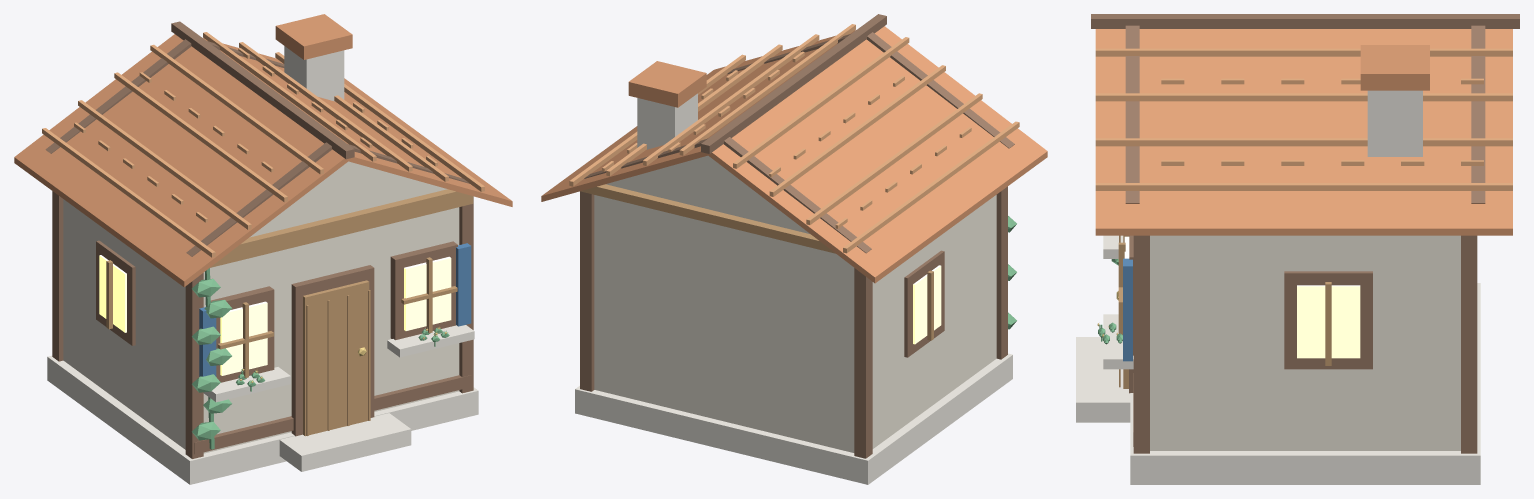
File: house-white-orange-roof.glb
3 renders of one model, left to right at view 1: azimuth 30°, elevation 25°; view 2: azimuth 150°, elevation 25°; view 3: azimuth 270°, elevation 25°, orthographic. The views are drawn at different scales.
Parts seen in each view (by area): view 1: house_white_orange_roof_roof_orange, house_white_orange_roof_plaster, house_white_orange_roof_wood_dark, house_white_orange_roof_stone_light, house_white_orange_roof_wood, house_white_orange_roof_roof_terracotta, house_white_orange_roof_glow, house_white_orange_roof_leaf_mid, house_white_orange_roof_navy; view 2: house_white_orange_roof_plaster, house_white_orange_roof_roof_orange, house_white_orange_roof_wood_dark, house_white_orange_roof_stone_light, house_white_orange_roof_roof_terracotta, house_white_orange_roof_wood, house_white_orange_roof_glow; view 3: house_white_orange_roof_roof_orange, house_white_orange_roof_plaster, house_white_orange_roof_wood_dark, house_white_orange_roof_stone_light, house_white_orange_roof_roof_terracotta, house_white_orange_roof_glow, house_white_orange_roof_wood, house_white_orange_roof_navy.
Boxes of the visible parts, x1,y1,x2,y2 form: house_white_orange_roof_roof_orange: (14, 14, 512, 287); house_white_orange_roof_plaster: (63, 161, 459, 453); house_white_orange_roof_wood_dark: (45, 21, 473, 458); house_white_orange_roof_stone_light: (47, 46, 478, 484); house_white_orange_roof_wood: (106, 189, 473, 436); house_white_orange_roof_roof_terracotta: (42, 32, 484, 257); house_white_orange_roof_glow: (99, 255, 451, 375); house_white_orange_roof_leaf_mid: (192, 268, 449, 449); house_white_orange_roof_navy: (199, 243, 471, 376); house_white_orange_roof_plaster: (594, 155, 996, 452); house_white_orange_roof_roof_orange: (541, 26, 1047, 283); house_white_orange_roof_wood_dark: (580, 14, 1014, 458); house_white_orange_roof_stone_light: (575, 93, 1012, 484); house_white_orange_roof_roof_terracotta: (569, 24, 1019, 253); house_white_orange_roof_wood: (580, 184, 933, 340); house_white_orange_roof_glow: (913, 265, 941, 344); house_white_orange_roof_roof_orange: (1095, 29, 1512, 235); house_white_orange_roof_plaster: (1103, 235, 1460, 450); house_white_orange_roof_wood_dark: (1091, 14, 1519, 453); house_white_orange_roof_stone_light: (1076, 90, 1480, 484); house_white_orange_roof_roof_terracotta: (1095, 48, 1512, 190); house_white_orange_roof_glow: (1124, 236, 1360, 358); house_white_orange_roof_wood: (1118, 235, 1331, 388); house_white_orange_roof_navy: (1123, 258, 1132, 361).
Size of the model in its own units: 4.04 by 3.75 by 3.85.
